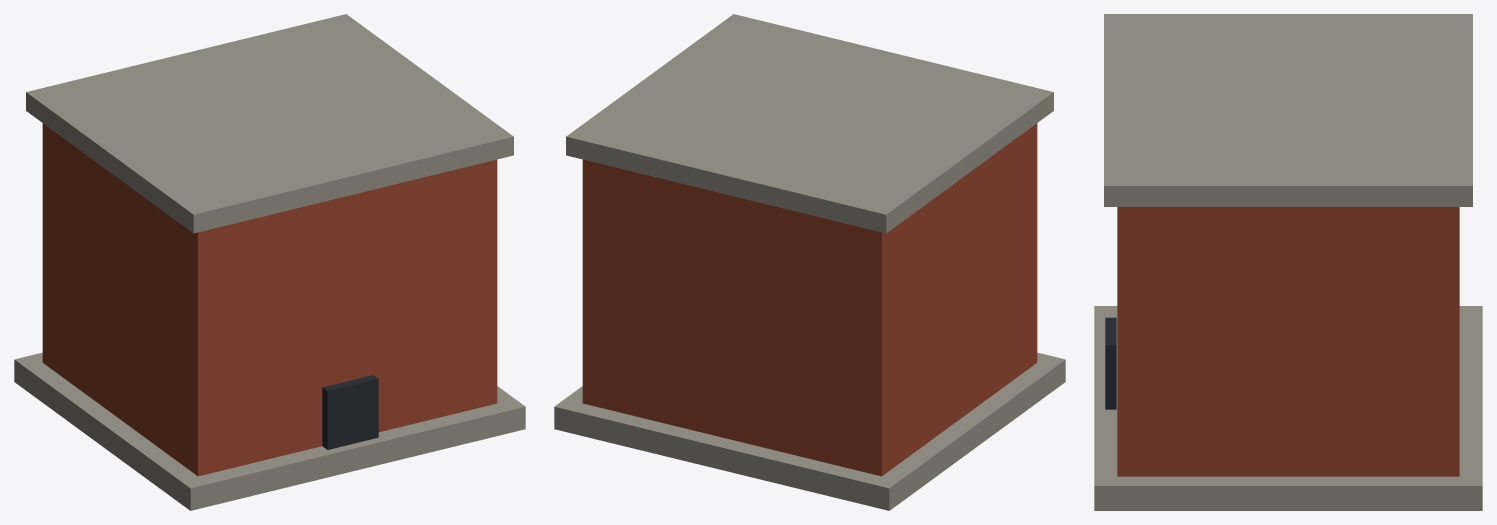
File: bld_residential_a05_lod1.glb
3 renders of one model, left to right at view 1: azimuth 30°, elevation 25°; view 2: azimuth 150°, elevation 25°; view 3: azimuth 270°, elevation 25°, orthographic. The views are drawn at different scales.
Parts seen in each view (by area): view 1: body; view 2: body; view 3: body.
Part boxes in pixels (box(x1,y1,x2,y2)): body: box(14, 14, 525, 510); body: box(554, 14, 1065, 510); body: box(1094, 14, 1482, 510).
Bounding box in the file's own units: 5.6 × 4.65 × 5.1.
